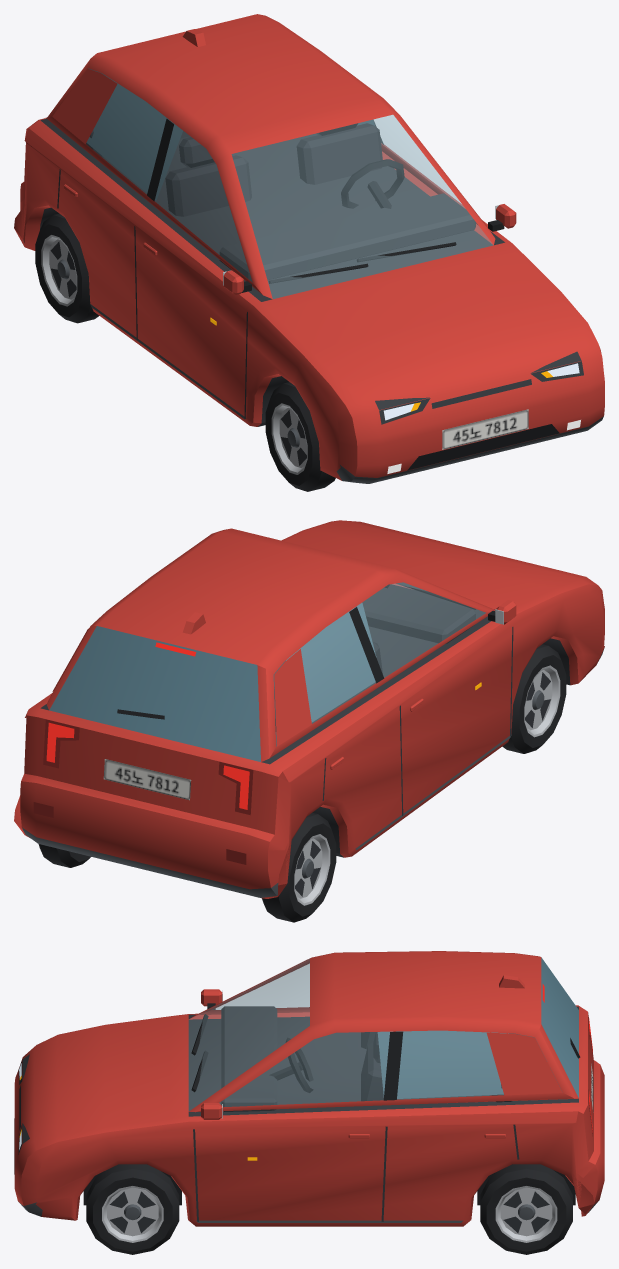
Rendered from SC_Veh_Car_Compact_Red.gltf.
3 renders of one model, top to bottom at view 1: azimuth 30°, elevation 25°; view 2: azimuth 150°, elevation 25°; view 3: azimuth 270°, elevation 25°, orthographic. The views are drawn at different scales.
Parts seen in each view (by area): view 1: SC_Veh_Car_Compact_Red; view 2: SC_Veh_Car_Compact_Red; view 3: SC_Veh_Car_Compact_Red.
Part boxes in pixels (box(x1,y1,x2,y2)): SC_Veh_Car_Compact_Red: box(14, 14, 604, 491); SC_Veh_Car_Compact_Red: box(14, 520, 604, 922); SC_Veh_Car_Compact_Red: box(14, 951, 604, 1254).
Size of the model in its own units: 1.71 by 1.53 by 3.6.
4 materials, 4 textured.
